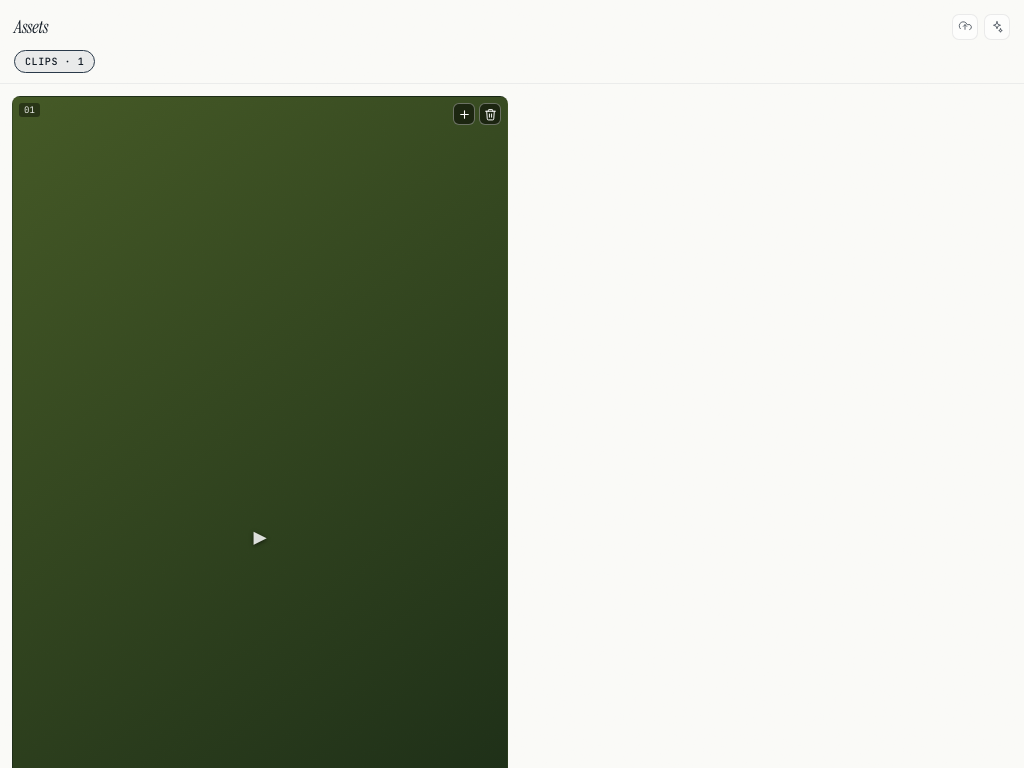
Test: LibraryTab — delete an asset (I18) › cancelling the confirm makes no request
This screenshot has width=1024, height=768.
Click the button named "delete asset".
click(490, 114)  # box [479,103,501,125]
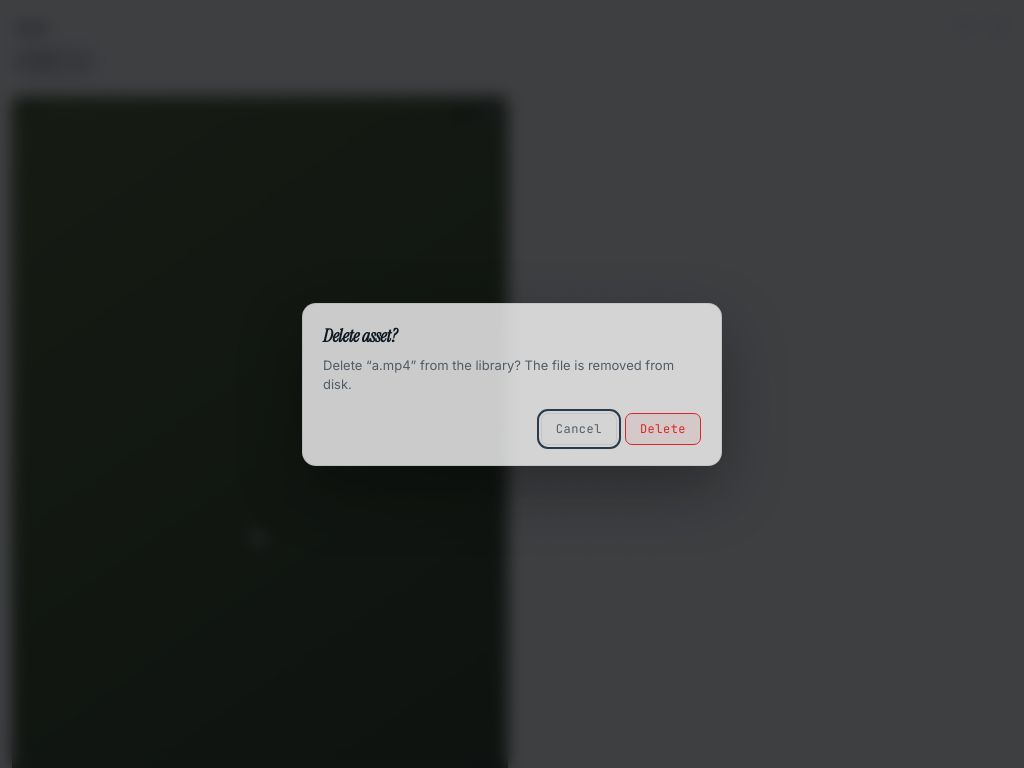
Click the button "Cancel".
click(579, 428)  # box [541,412,617,444]
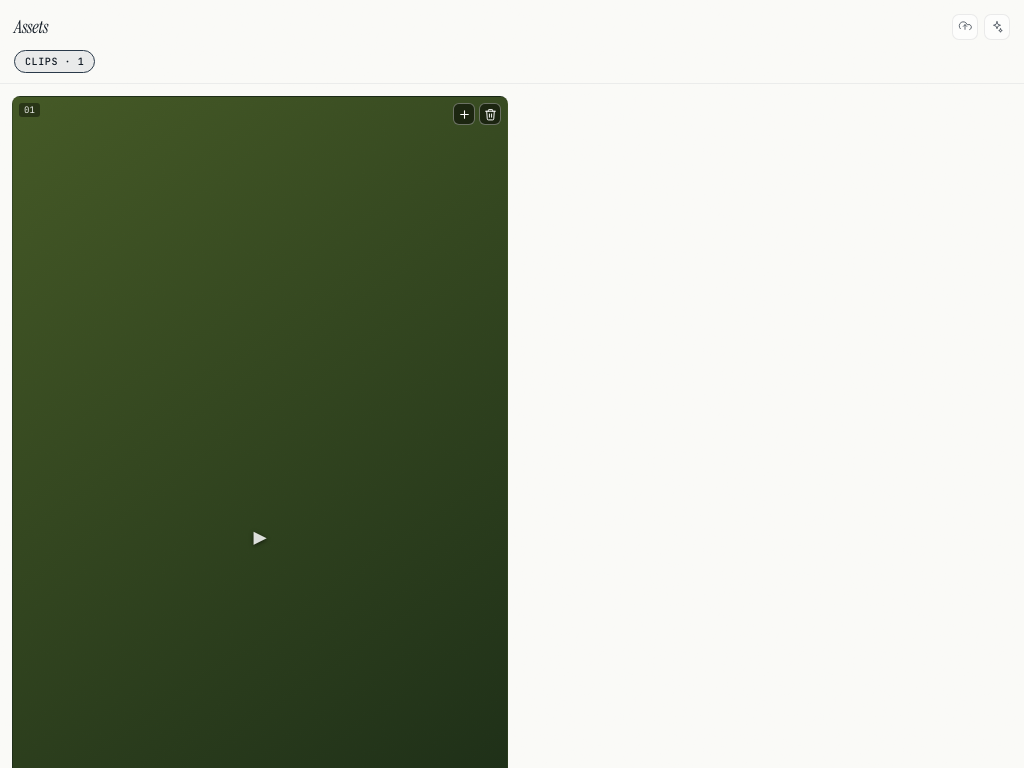
Check: the button with test id "asset-delete-confirm" is gone
